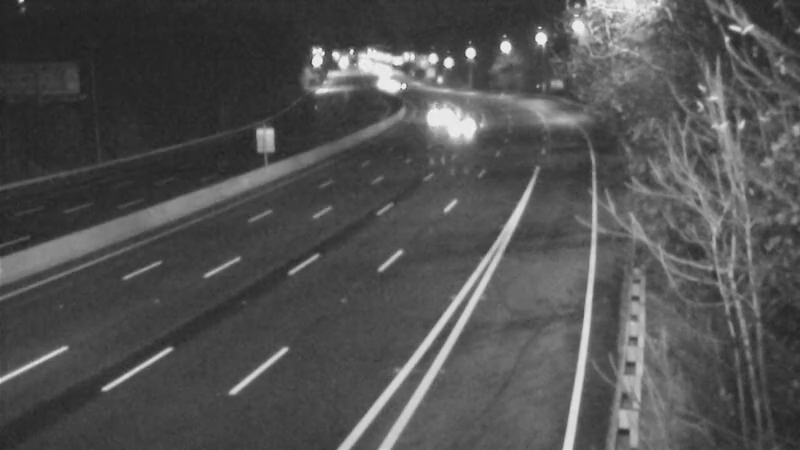vehicle: (378, 60, 428, 110), (413, 91, 463, 141), (432, 107, 482, 157)
